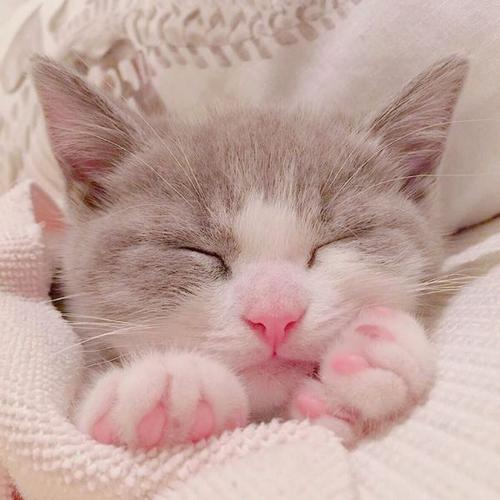cat: (30, 53, 450, 421)
